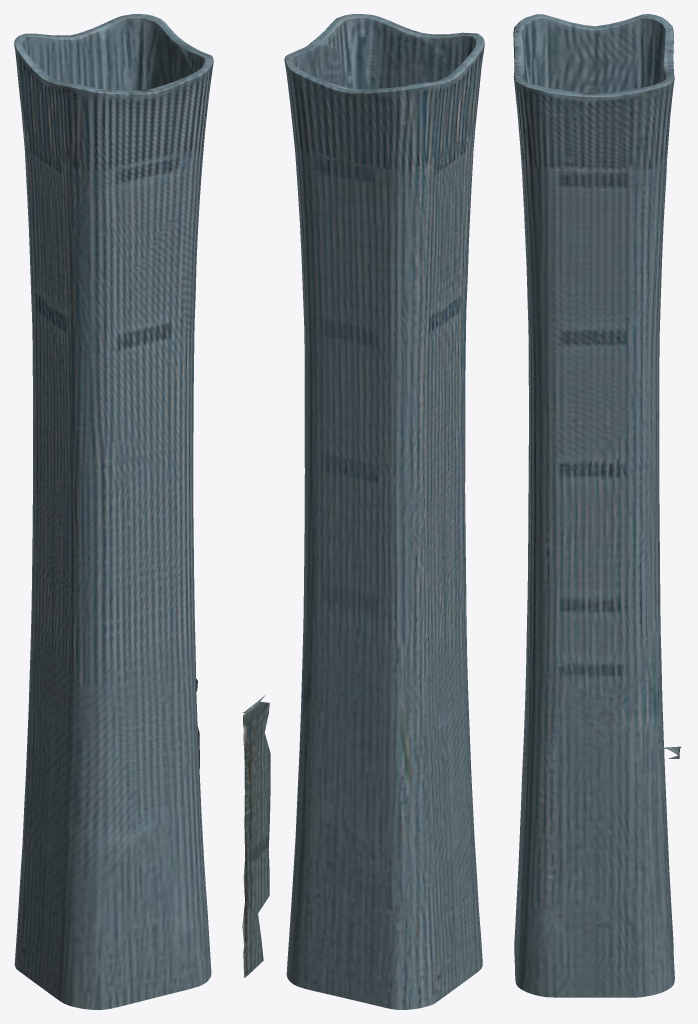
Rendered from detail.glb.
3 views of the same model, side by side, from view 1: azimuth 30°, elevation 25°; view 2: azimuth 150°, elevation 25°; view 3: azimuth 270°, elevation 25° (orthographic).
Parts seen in each view (by area): view 1: guomao/tripo_node_7d982ce5-1c3a-4cdc-8f62-3cada967e351; view 2: guomao/tripo_node_7d982ce5-1c3a-4cdc-8f62-3cada967e351; view 3: guomao/tripo_node_7d982ce5-1c3a-4cdc-8f62-3cada967e351.
Boxes of the visible parts, x1,y1,x2,y2 form: guomao/tripo_node_7d982ce5-1c3a-4cdc-8f62-3cada967e351: (14, 14, 213, 1009); guomao/tripo_node_7d982ce5-1c3a-4cdc-8f62-3cada967e351: (242, 14, 484, 1009); guomao/tripo_node_7d982ce5-1c3a-4cdc-8f62-3cada967e351: (513, 14, 680, 997).
Size of the model in its own units: 1.04 by 5.28 by 0.891.
Materials: 1 (1 with a texture image).
